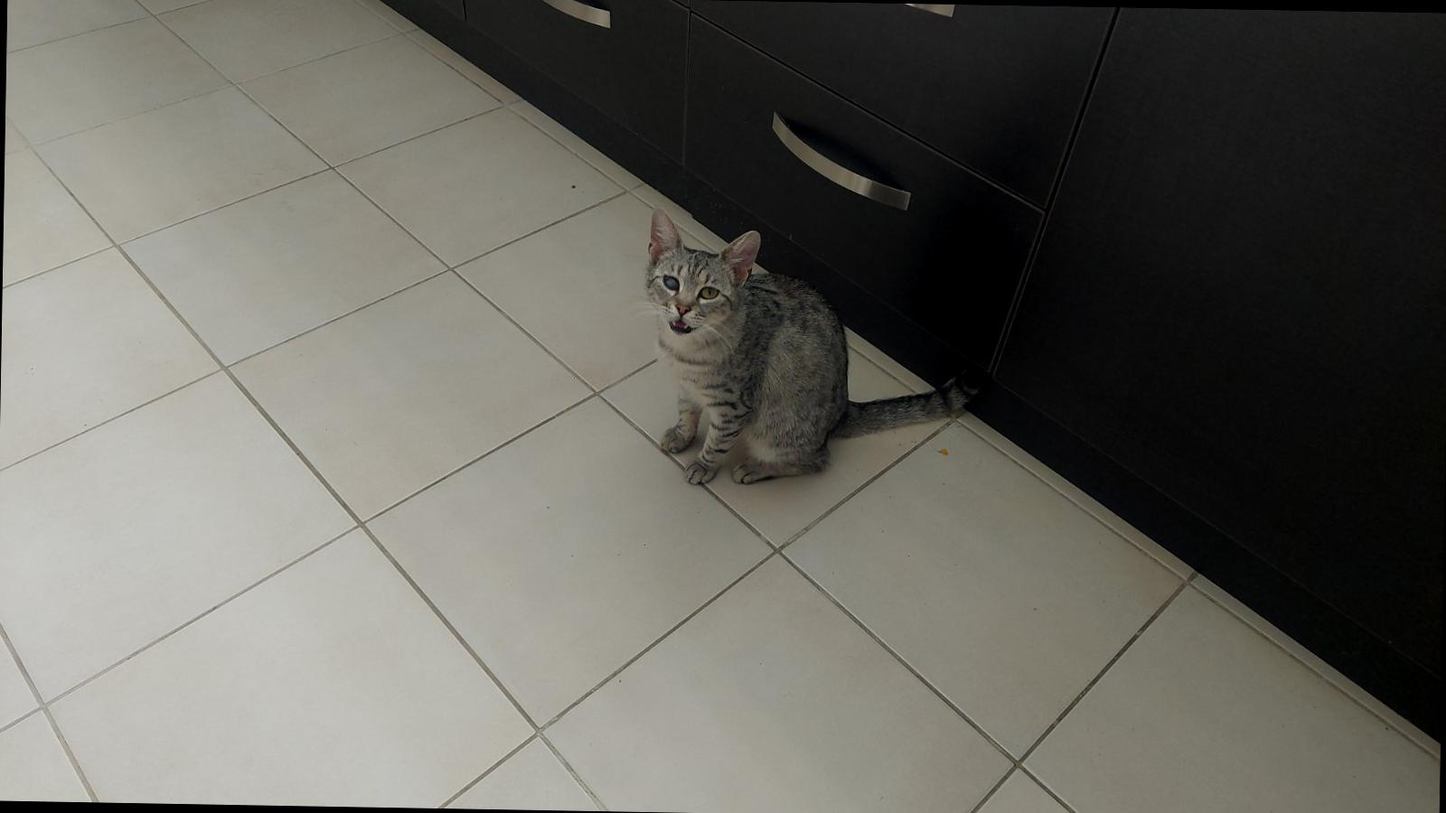macka: (642, 207, 990, 491)
